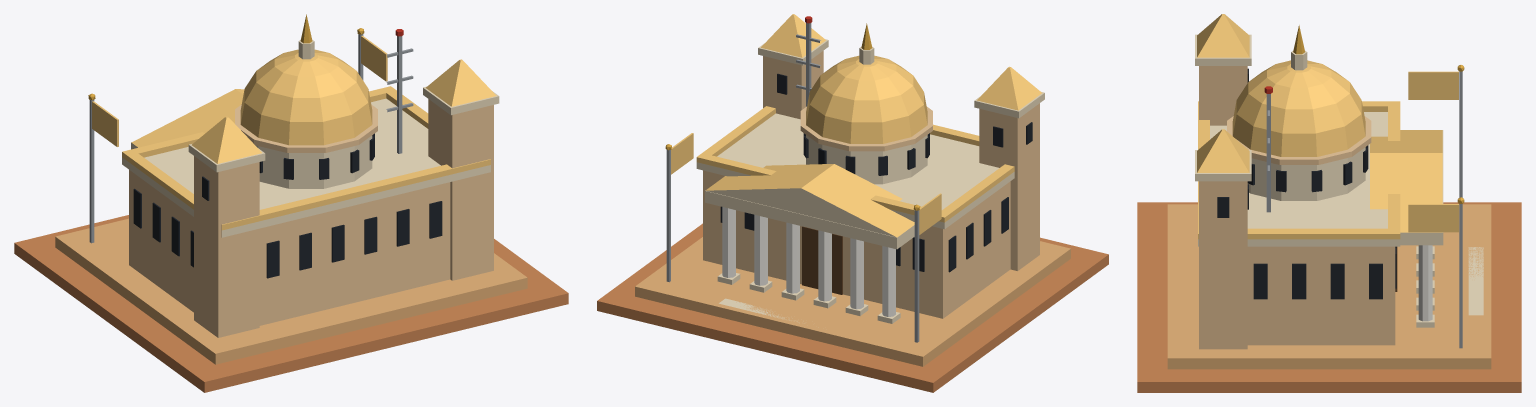
Rendered from command_center.glb.
The picture shows the model from 3 angles, left to right: view 1: azimuth 30°, elevation 25°; view 2: azimuth 150°, elevation 25°; view 3: azimuth 270°, elevation 25°; orthographic projection. The views are drawn at different scales.
Parts seen in each view (by area): view 1: command_center; view 2: command_center; view 3: command_center.
Boxes of the visible parts, bbox=[...] form: command_center: bbox=[14, 14, 568, 392]; command_center: bbox=[597, 14, 1108, 392]; command_center: bbox=[1137, 14, 1521, 392].
Size of the model in its own units: 4.2 by 3.04 by 3.8.
